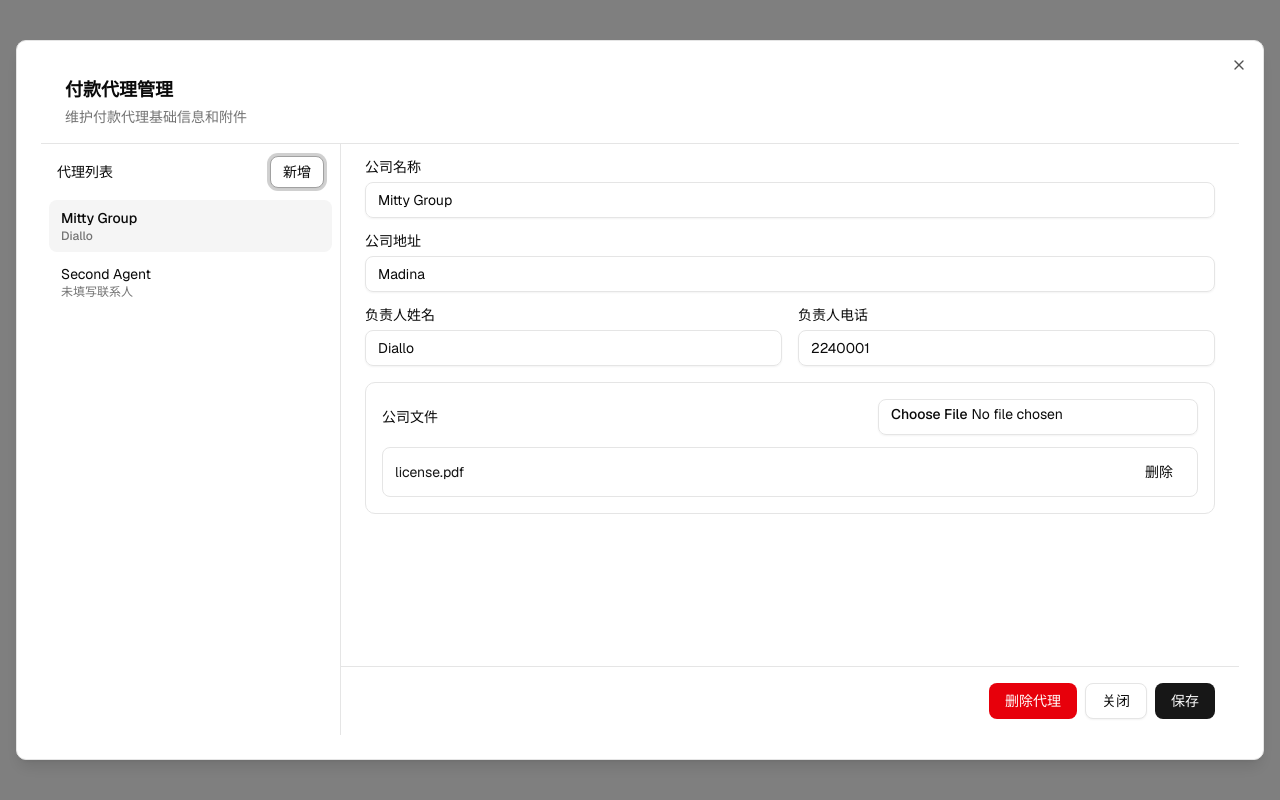
Test: PaymentAgentManagerDialog › keeps the dialog in create mode after clicking New when agents already exist
Expected: the field showing "Mitty Group" below "公司名称" is shown, [365,182,1215,218]
Expected: the text "公司文件" is shown, [382,407,438,427]
Click the button "新增": click(297, 172) [270,156,324,188]
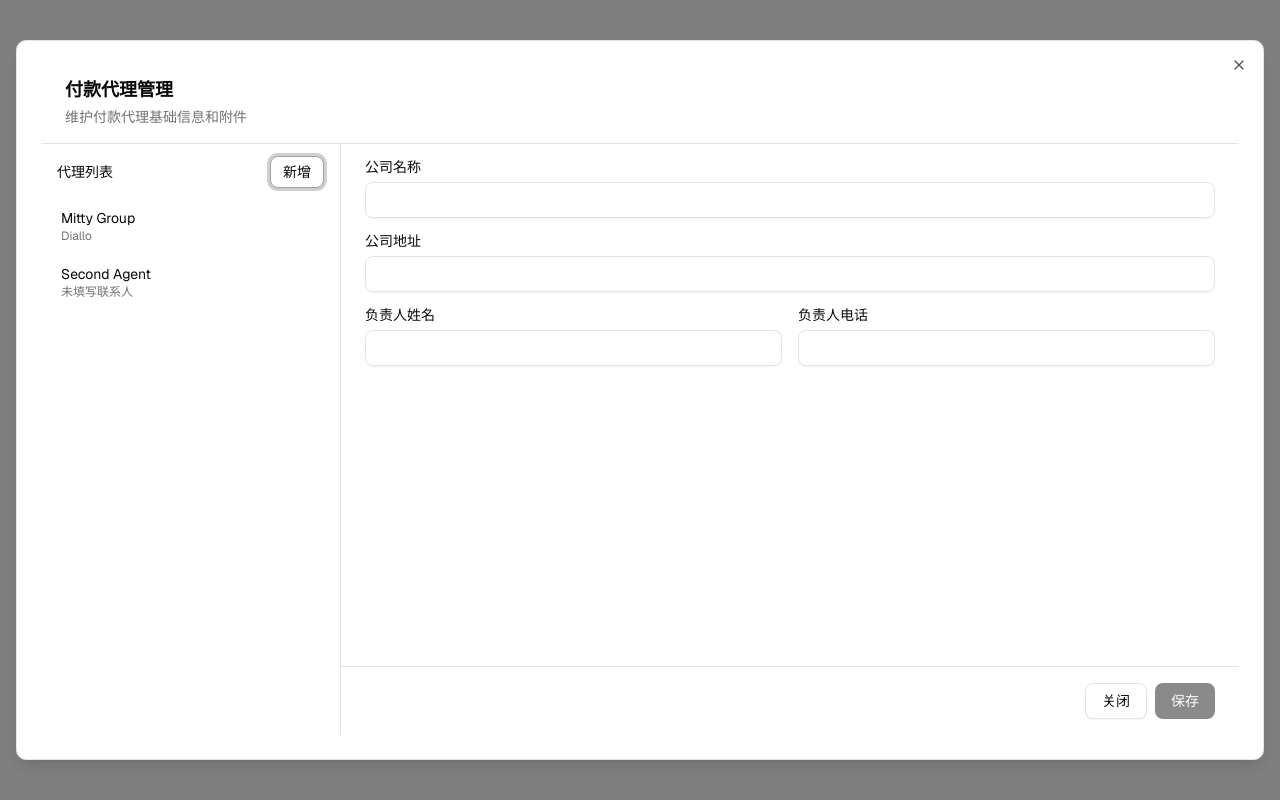
Now the text "公司文件" is gone
Now the button "删除代理" is gone
Now the button "保存" is disabled, box [1155,683,1215,719]
